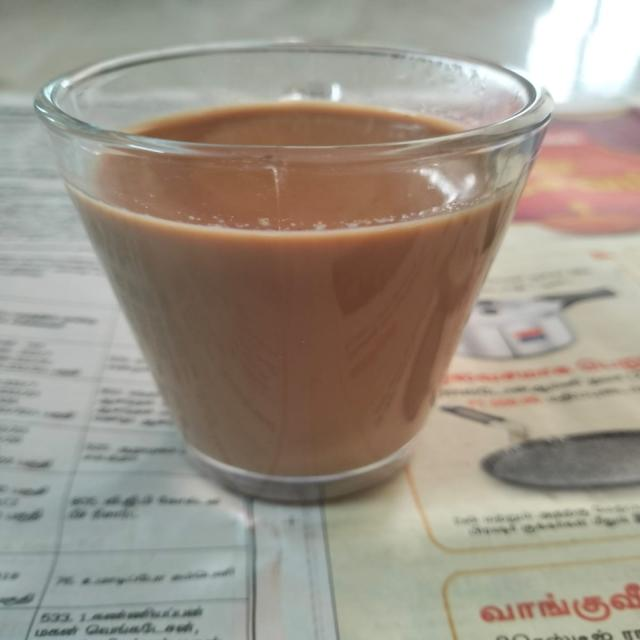glass-VX4N: (38, 39, 545, 503)
